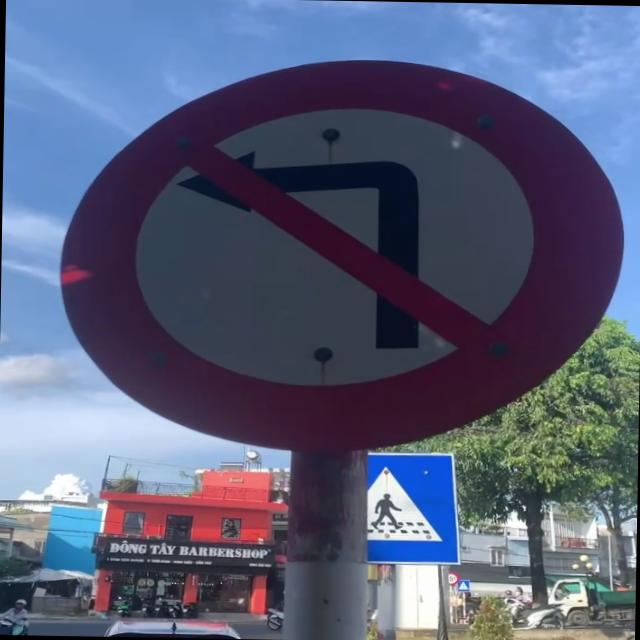Cam_Re_Trai: (64, 52, 626, 462)
